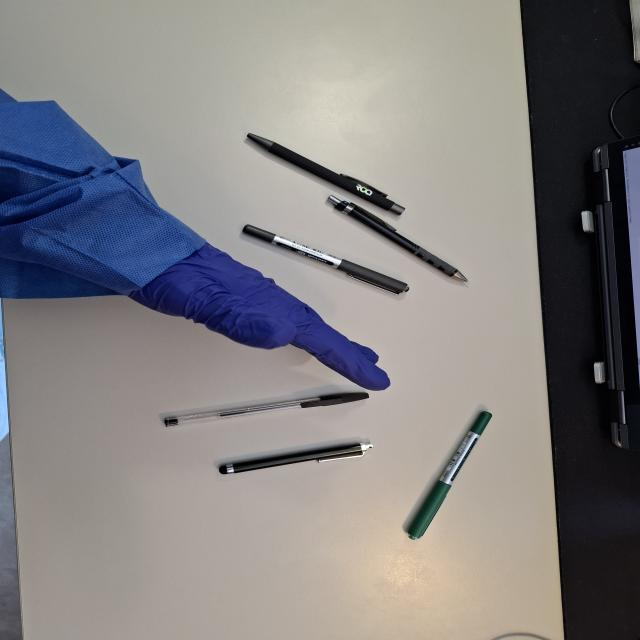glove_on: (125, 235, 392, 393)
